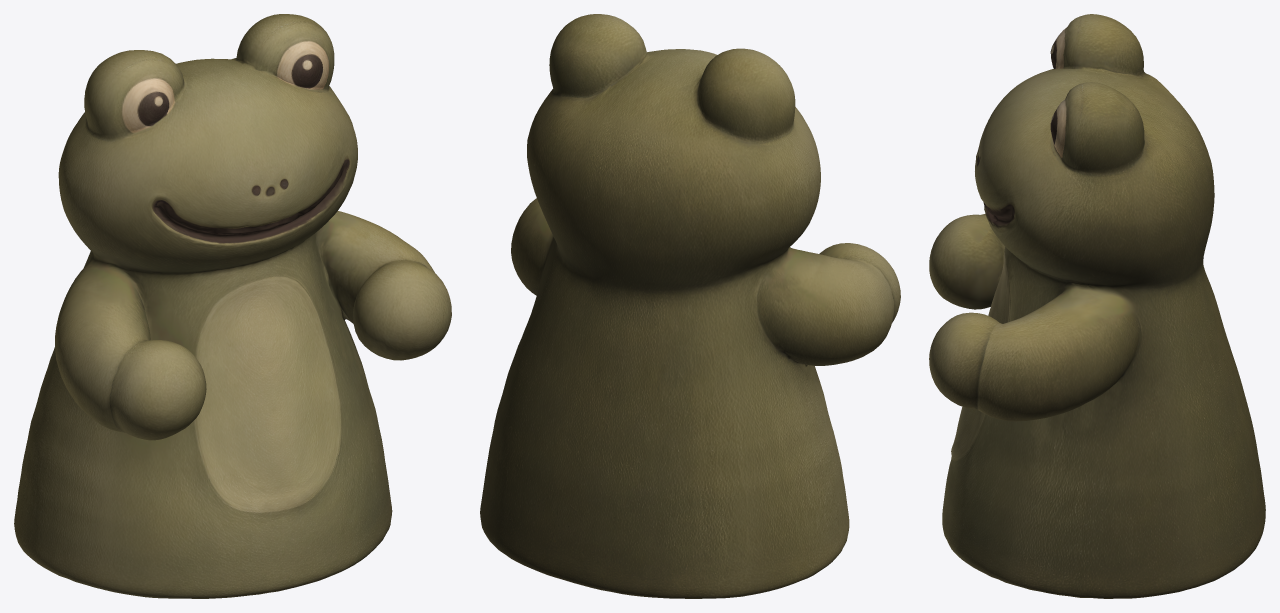
Rendered from Prop_PuppetFrog.fbx.
3 renders of one model, left to right at view 1: azimuth 30°, elevation 25°; view 2: azimuth 150°, elevation 25°; view 3: azimuth 270°, elevation 25°, orthographic. The views are drawn at different scales.
Parts seen in each view (by area): view 1: texture_mapping; view 2: texture_mapping; view 3: texture_mapping.
Part boxes in pixels (box(x1,y1,x2,y2)): texture_mapping: box(14, 14, 451, 598); texture_mapping: box(480, 14, 900, 598); texture_mapping: box(929, 14, 1265, 598).
Bounding box in the file's own units: 0.7556 × 0.6455 × 1.
1 material, 1 textured.
